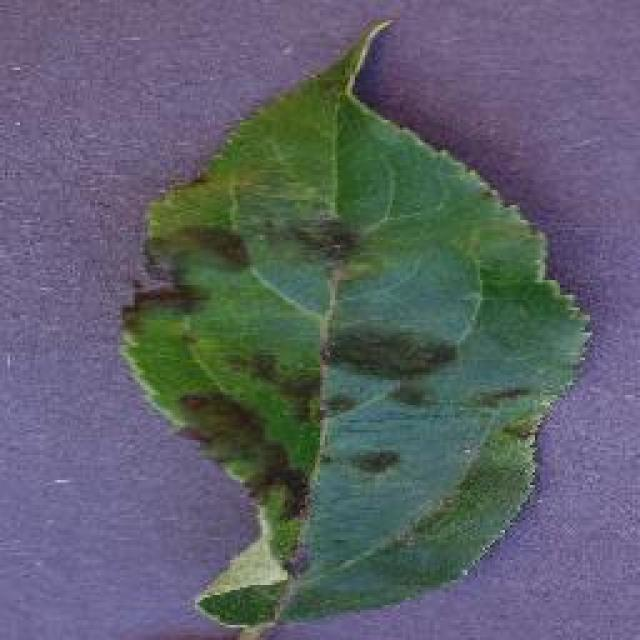apple scab disease: (115, 15, 593, 637)
